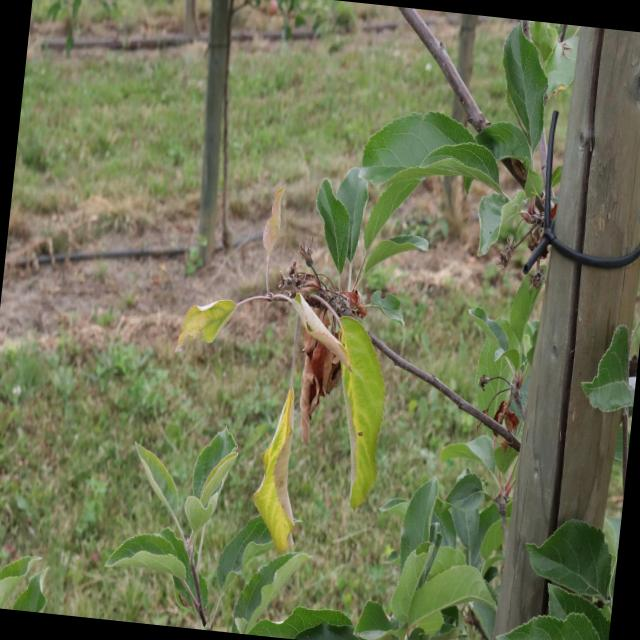-FireBlight-: (284, 283, 361, 417), (480, 386, 526, 442), (516, 198, 552, 263)
